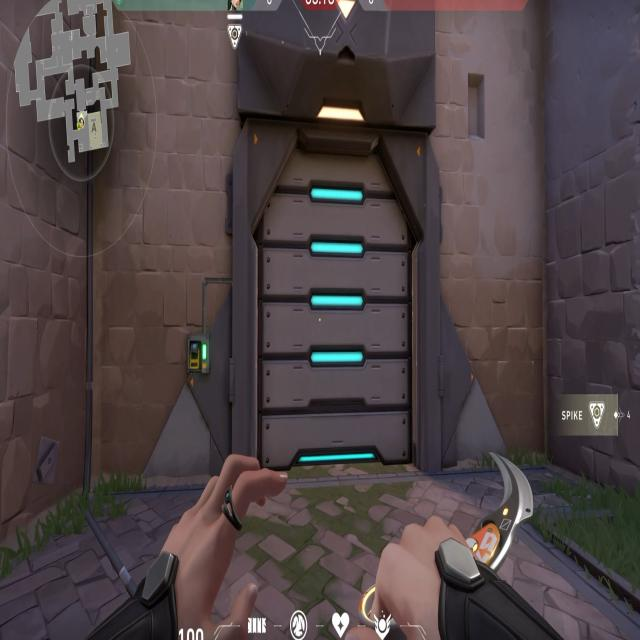A_Door: (227, 96, 448, 478)
